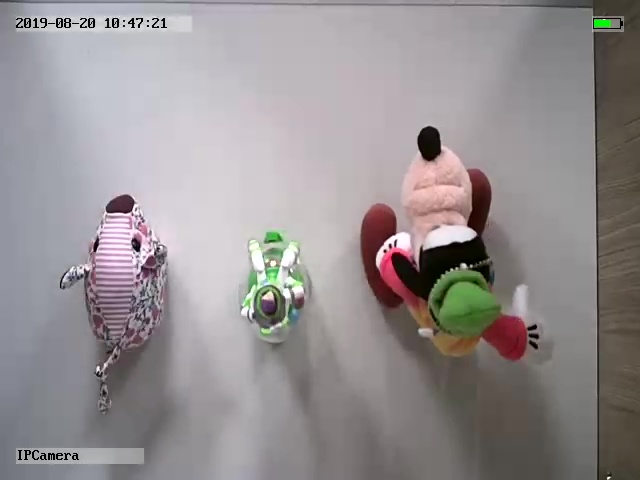buzz: (228, 228, 316, 346)
goofy: (357, 121, 555, 375)
pig: (50, 192, 173, 415)
